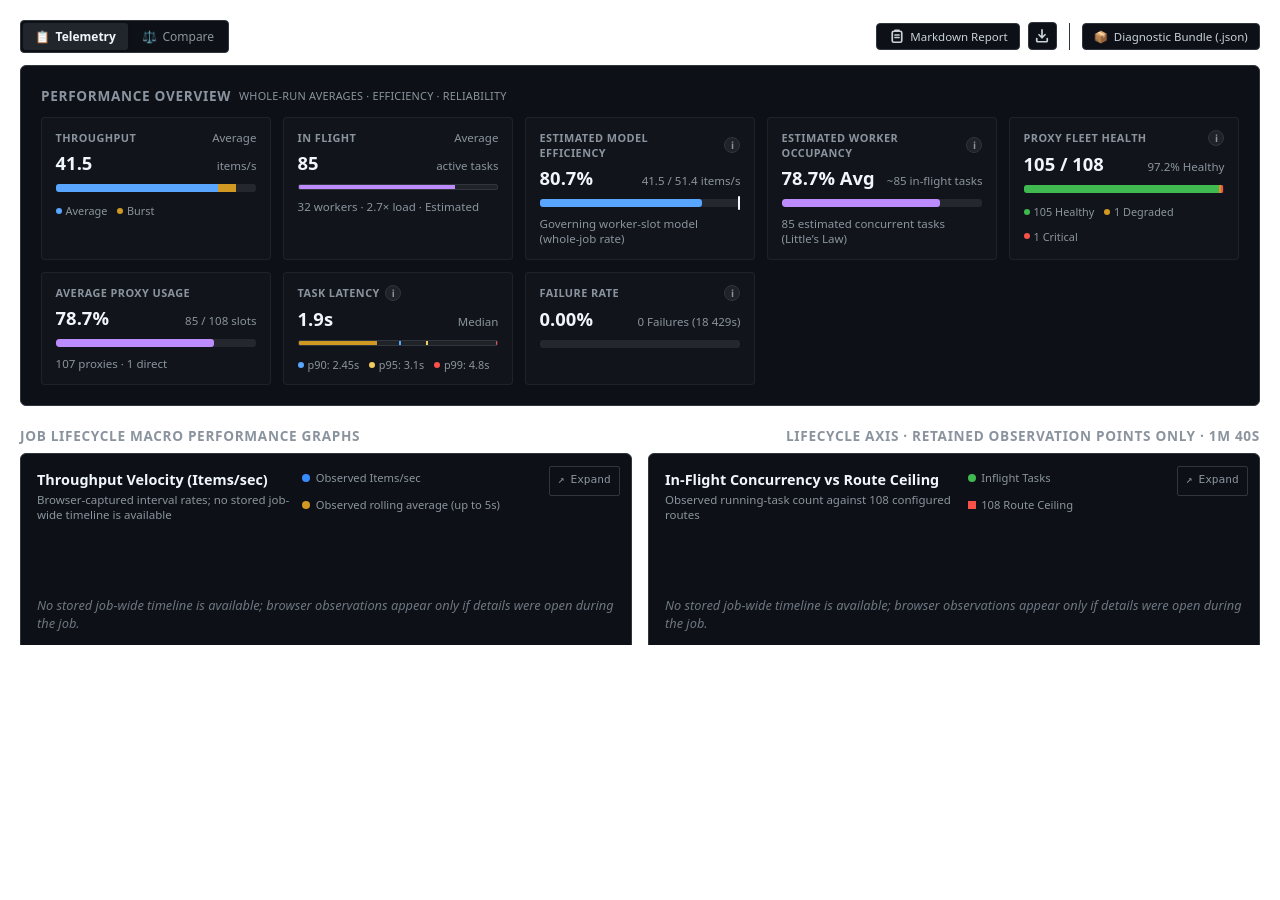
it: JobDiagnosticsReport › shows a compact table and marks incomparable throughput as partial
Click the button "⚖️ Compare".
click(178, 36)  # box 130,23 -> 226,50
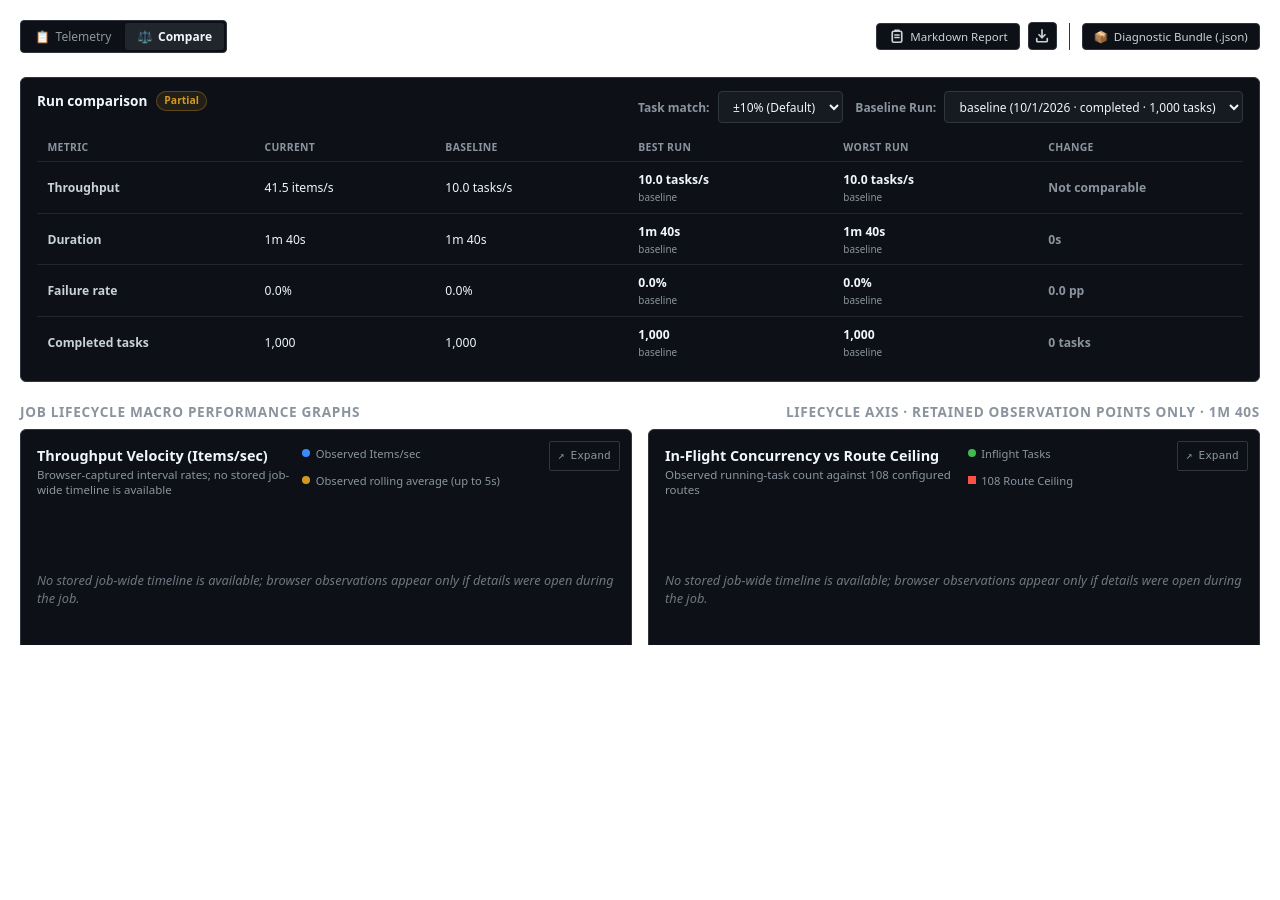
Check: the table named "selected baseline and the fastest and slowest workload-matched runs" is shown, box 37,134 -> 1243,367
Check: the column headings read "Metric", "Current", "Baseline", "Best run", "Worst run", "Change", in this order, box 37,134 -> 254,162; 254,134 -> 435,162; 435,134 -> 628,162; 628,134 -> 833,162; 833,134 -> 1038,162; 1038,134 -> 1243,162
Check: the text with test id "comparison-status" reads "Partial", box 164,93 -> 199,107
